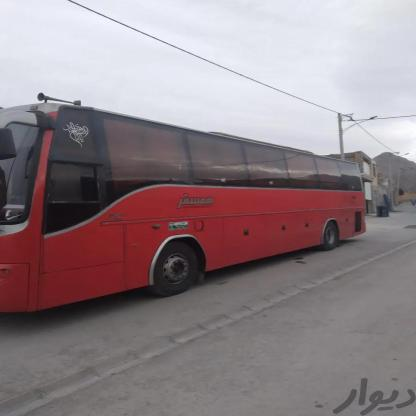Bus: (0, 87, 373, 312)
